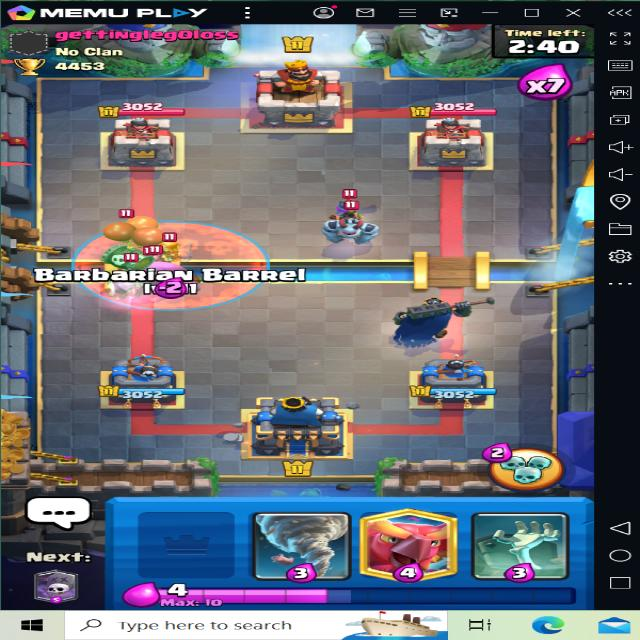Egolem: (119, 252, 204, 301)
Megaminion: (311, 208, 400, 245)
Musketeer: (324, 188, 377, 225)
Royalghost: (85, 259, 173, 298)
Skeletonbarrel: (104, 211, 156, 272)
Valk: (152, 231, 204, 261)
